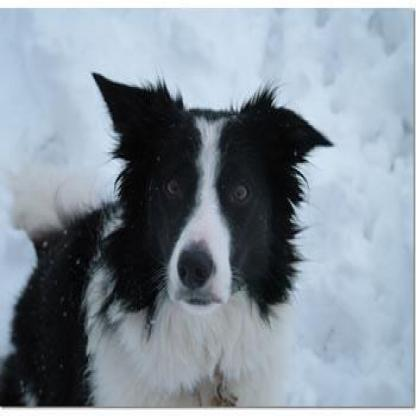Border_collie: (0, 64, 338, 406)
